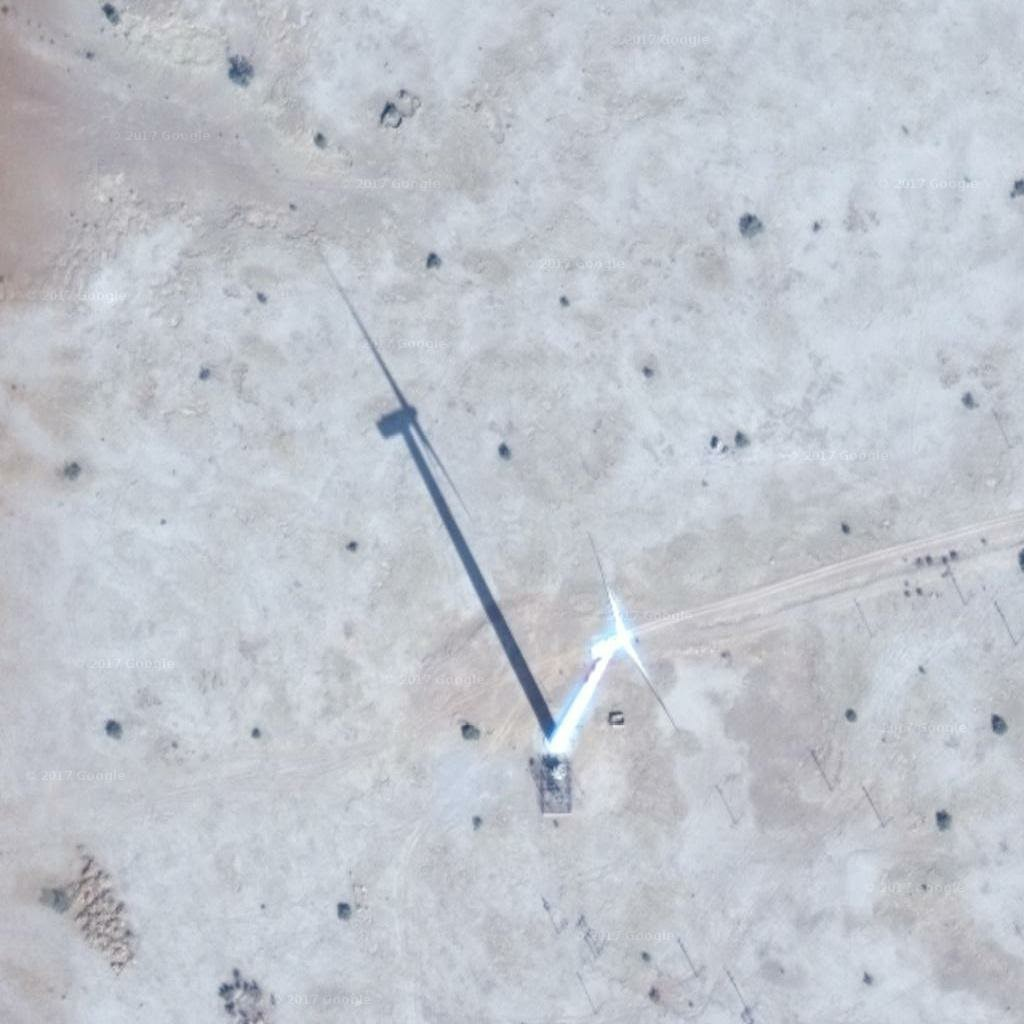Windmill: (342, 300, 565, 709)
